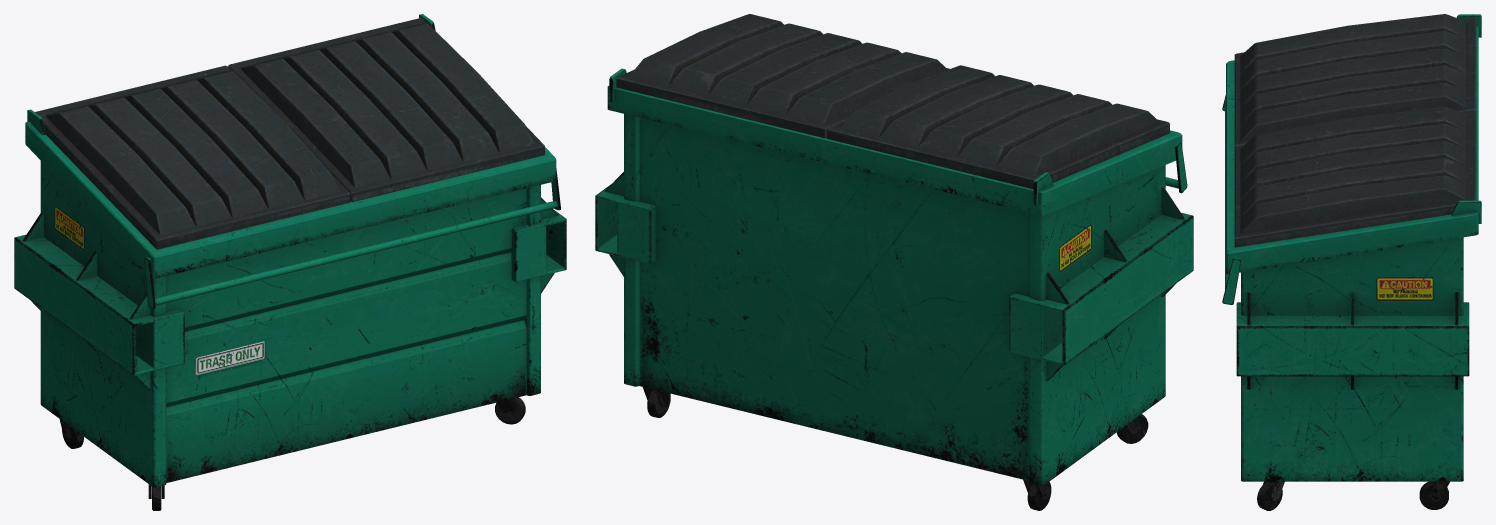
File: trashxdxd.fbx
3 renders of one model, left to right at view 1: azimuth 30°, elevation 25°; view 2: azimuth 150°, elevation 25°; view 3: azimuth 270°, elevation 25°, orthographic. The views are drawn at different scales.
Parts seen in each view (by area): view 1: node_id111; view 2: node_id111; view 3: node_id111.
Part boxes in pixels (x1,y1,x2,y2): node_id111: [14, 14, 566, 510]; node_id111: [595, 14, 1193, 510]; node_id111: [1222, 14, 1481, 510].
Size of the model in its own units: 0.5614 by 0.4109 by 0.2979.
1 material, 1 textured.
